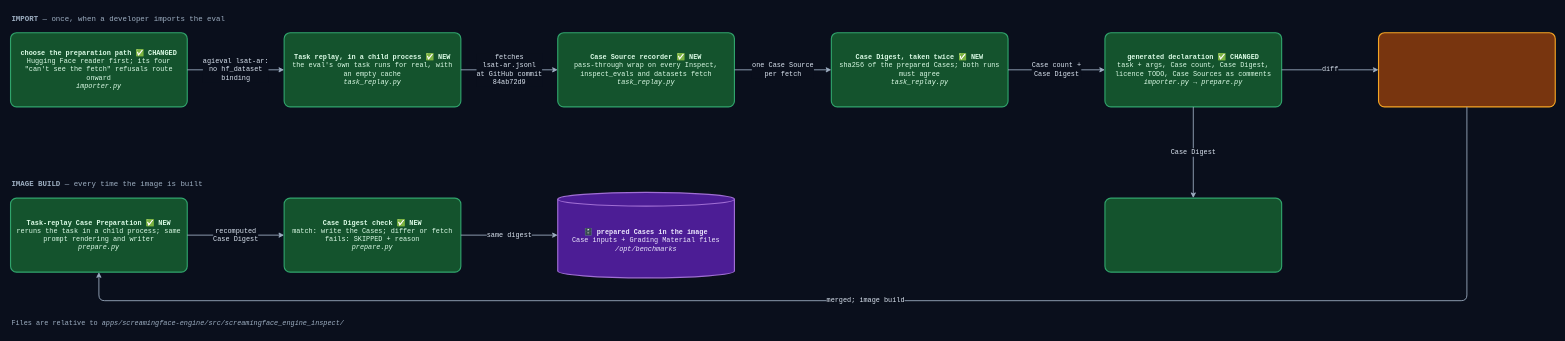
Image size: 1565x341. Some labels were removed from this diagram. The centre of each missing label's shape, as x and y in pixels:
Benchmark Revision ✅ CHANGED now includes the Case Digest benchmarks.py: the point at 1193,234
👤 import review COPIED, CAPTURED, OURS + owner licence decision the PR diff: the point at 1467,69
